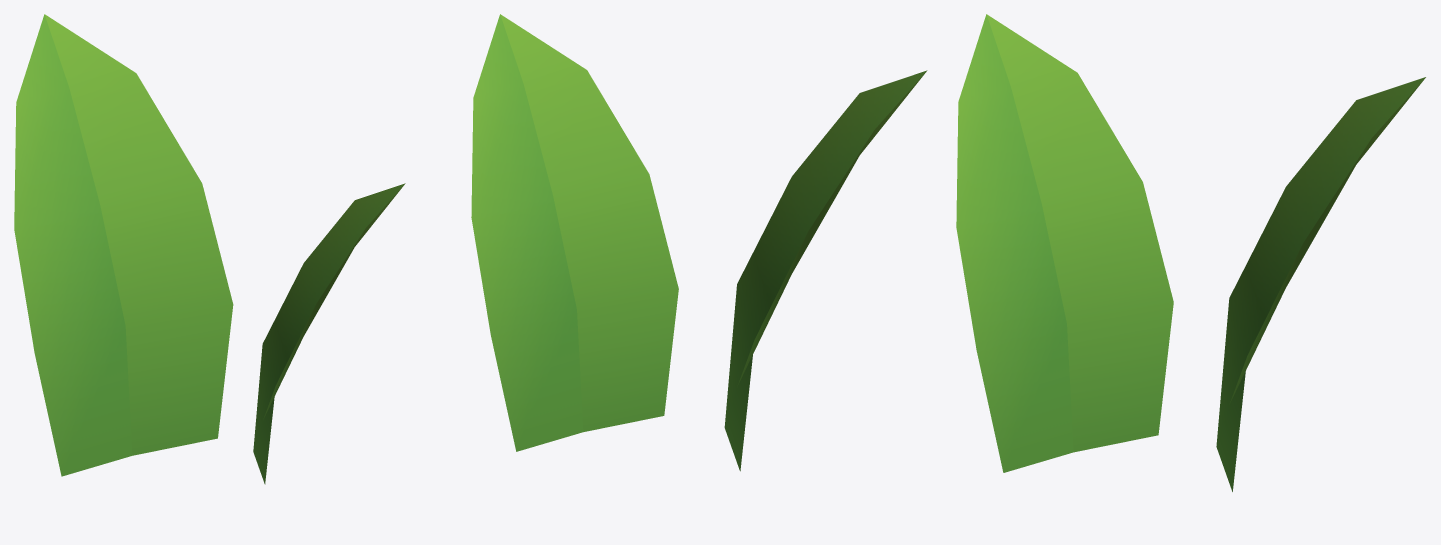
File: Grass_1_B_Color1.glb
3 renders of one model, left to right at view 1: azimuth 30°, elevation 25°; view 2: azimuth 150°, elevation 25°; view 3: azimuth 270°, elevation 25°, orthographic. The views are drawn at different scales.
Visible parts, largest first — view 1: Grass_1_B_Singlesided_Color1; view 2: Grass_1_B_Singlesided_Color1; view 3: Grass_1_B_Singlesided_Color1.
Part boxes in pixels (bbox=[...]): Grass_1_B_Singlesided_Color1: bbox=[14, 14, 405, 484]; Grass_1_B_Singlesided_Color1: bbox=[471, 14, 927, 471]; Grass_1_B_Singlesided_Color1: bbox=[956, 14, 1425, 491].
Bounding box in the file's own units: 0.512 × 0.5202 × 0.5327.
1 material, 1 textured.
